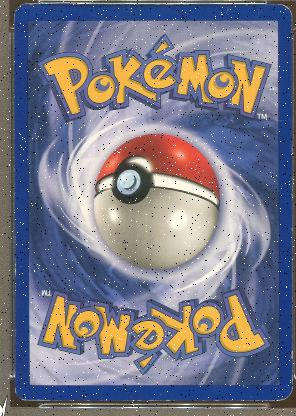Card: (13, 1, 293, 403)
Corner Wear: (268, 2, 293, 36), (265, 375, 291, 401), (12, 1, 35, 25), (13, 387, 50, 401)
Edge Wear: (29, 399, 173, 401), (199, 399, 264, 401), (15, 236, 17, 298), (13, 72, 15, 116), (289, 226, 291, 262), (289, 174, 291, 200), (289, 346, 291, 360), (289, 140, 291, 154), (13, 187, 14, 201)
Scratch: (224, 6, 229, 14), (242, 4, 247, 6)
